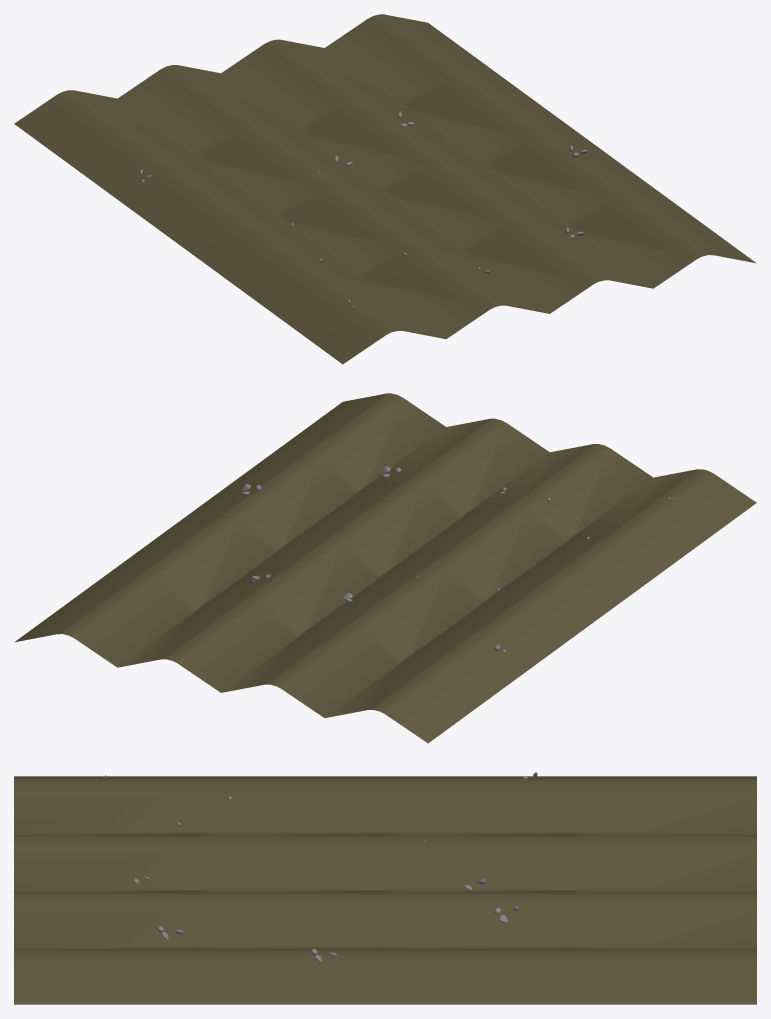
File: farm.fbx
The picture shows the model from 3 angles, top to bottom: view 1: azimuth 30°, elevation 25°; view 2: azimuth 150°, elevation 25°; view 3: azimuth 270°, elevation 25°; orthographic projection. The views are drawn at different scales.
Parts seen in each view (by area): view 1: Plane; view 2: Plane; view 3: Plane.
Part boxes in pixels (<box>): Plane: <box>14,14,756,364</box>; Plane: <box>14,393,756,743</box>; Plane: <box>14,772,756,1004</box>.
Bounding box in the file's own units: 3200 × 212 × 4400.
